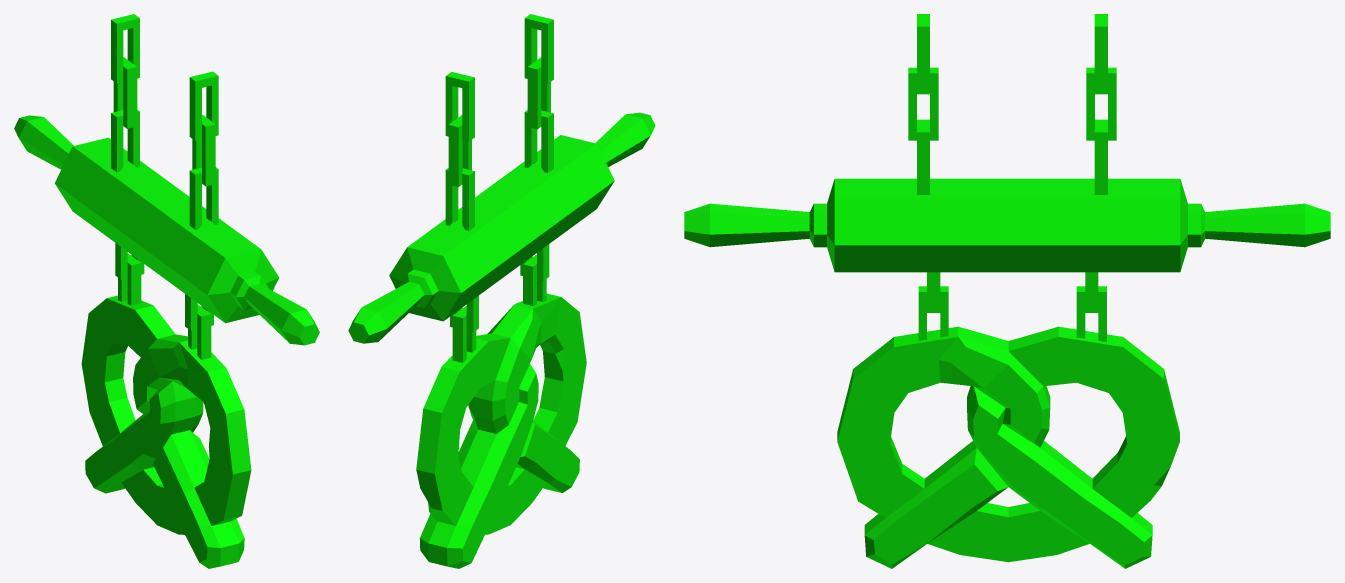
Rendered from SM_Signboard_Bakery_Fantasy.fbx.
3 views of the same model, side by side, from view 1: azimuth 30°, elevation 25°; view 2: azimuth 150°, elevation 25°; view 3: azimuth 270°, elevation 25° (orthographic). The views are drawn at different scales.
Visible parts, largest first — view 1: signboard-bakery-fantasy; view 2: signboard-bakery-fantasy; view 3: signboard-bakery-fantasy.
Boxes of the visible parts, x1,y1,x2,y2 form: signboard-bakery-fantasy: (14,14,319,568); signboard-bakery-fantasy: (348,14,655,568); signboard-bakery-fantasy: (684,14,1330,568).
Bounding box in the file's own units: 0.2076 × 1.32 × 1.43.
